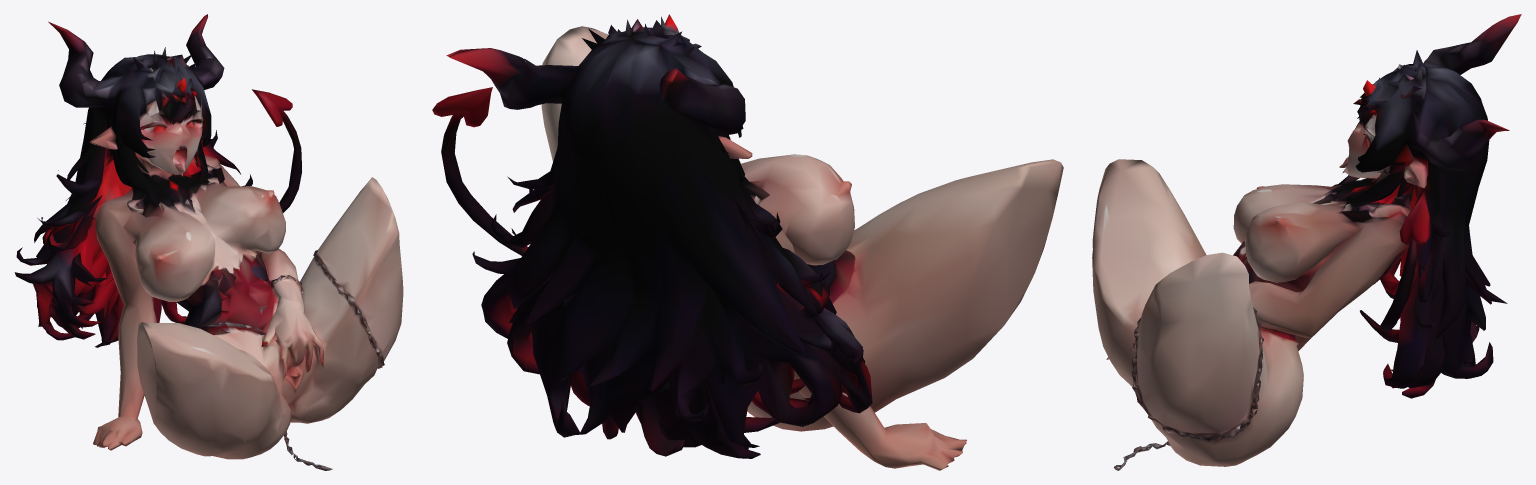
The picture shows the model from 3 angles, left to right: view 1: azimuth 30°, elevation 25°; view 2: azimuth 150°, elevation 25°; view 3: azimuth 270°, elevation 25°; orthographic projection. The views are drawn at different scales.
Visible parts, largest first — view 1: model; view 2: model; view 3: model.
Part boxes in pixels (x1,y1,x2,y2): model: (14,14,403,470); model: (432,14,1063,470); model: (1092,14,1521,470).
Bounding box in the file's own units: 1.64 × 1.9 × 1.86.
